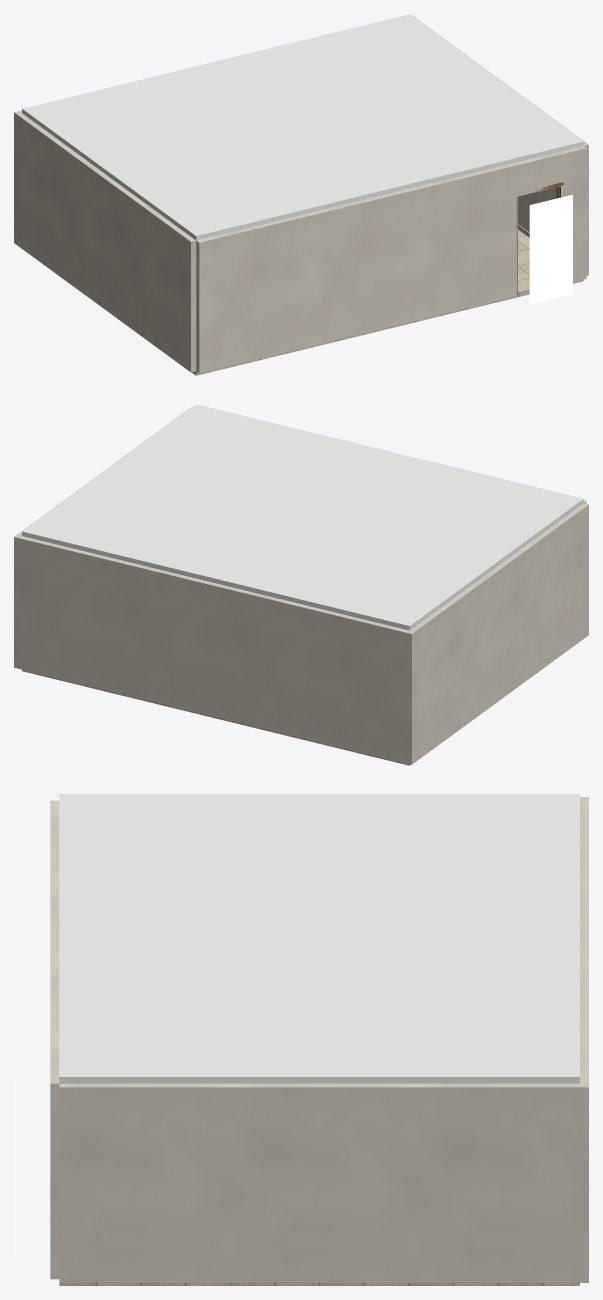
Rendered from room_house_flat.glb.
3 renders of one model, top to bottom at view 1: azimuth 30°, elevation 25°; view 2: azimuth 150°, elevation 25°; view 3: azimuth 270°, elevation 25°, orthographic. The views are drawn at different scales.
Visible parts, largest first — view 1: Room; view 2: Room; view 3: Room.
Part boxes in pixels (bbox=[...]): Room: bbox=[14, 14, 588, 375]; Room: bbox=[14, 404, 588, 765]; Room: bbox=[14, 794, 588, 1285].
Size of the model in its own units: 9.24 by 3.1 by 7.73.
Materials: 40 (9 with a texture image).
